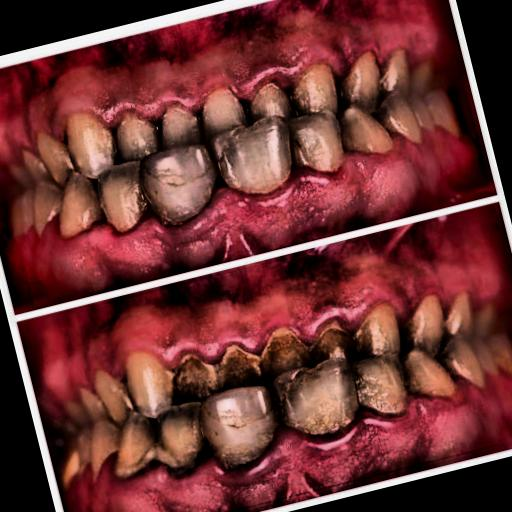Gingivitis: (26, 218, 501, 412), (4, 126, 472, 312), (0, 0, 430, 159), (69, 366, 512, 512)
